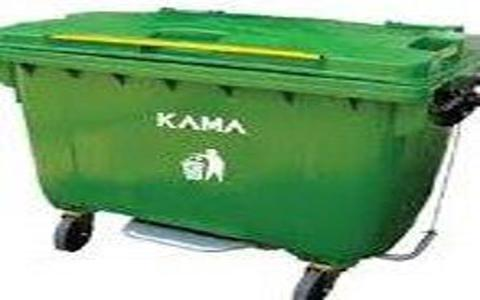Proper garbage: (3, 3, 475, 299)
